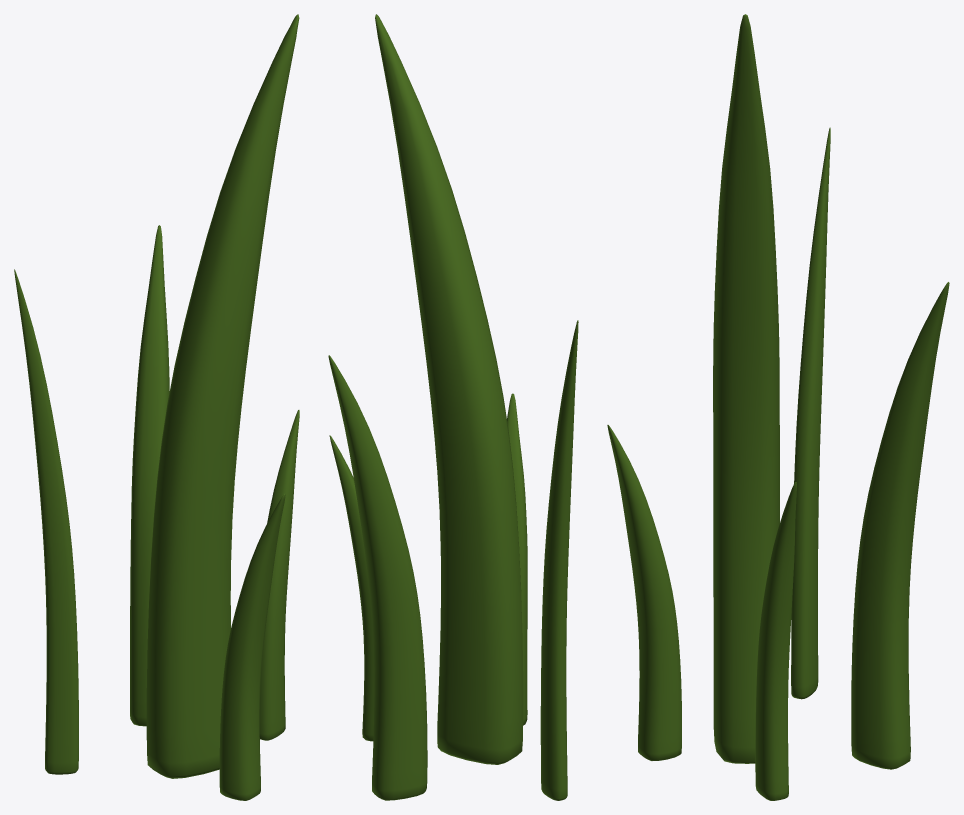
The model's file is grass.fbx.
3 views of the same model, side by side, from view 1: azimuth 30°, elevation 25°; view 2: azimuth 150°, elevation 25°; view 3: azimuth 270°, elevation 25° (orthographic). The views are drawn at different scales.
Parts seen in each view (by area): view 1: Grass, Grass.004, Grass.001, Grass.002, Grass.003; view 2: Grass, Grass.001, Grass.004, Grass.003, Grass.002; view 3: Grass, Grass.001, Grass.004, Grass.002, Grass.003.
Boxes of the visible parts, bbox=[...] form: Grass: bbox=[146, 14, 299, 778]; Grass.004: bbox=[14, 269, 78, 774]; Grass.001: bbox=[130, 225, 169, 726]; Grass.002: bbox=[219, 493, 285, 800]; Grass.003: bbox=[259, 410, 299, 740]; Grass: bbox=[375, 14, 523, 764]; Grass.001: bbox=[328, 355, 427, 800]; Grass.004: bbox=[540, 320, 578, 800]; Grass.003: bbox=[329, 435, 374, 741]; Grass.002: bbox=[507, 393, 527, 725]; Grass: bbox=[713, 14, 779, 763]; Grass.001: bbox=[851, 282, 949, 769]; Grass.004: bbox=[791, 127, 830, 699]; Grass.002: bbox=[607, 425, 681, 760]; Grass.003: bbox=[755, 482, 796, 800].
Size of the model in its own units: 548 by 1416 by 554.
